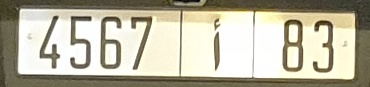3: (311, 18, 337, 74)
4: (37, 14, 61, 69)
5: (68, 14, 93, 69)
6: (99, 15, 122, 69)
7: (129, 15, 154, 69)
8: (280, 17, 305, 72)
a: (210, 17, 226, 72)
